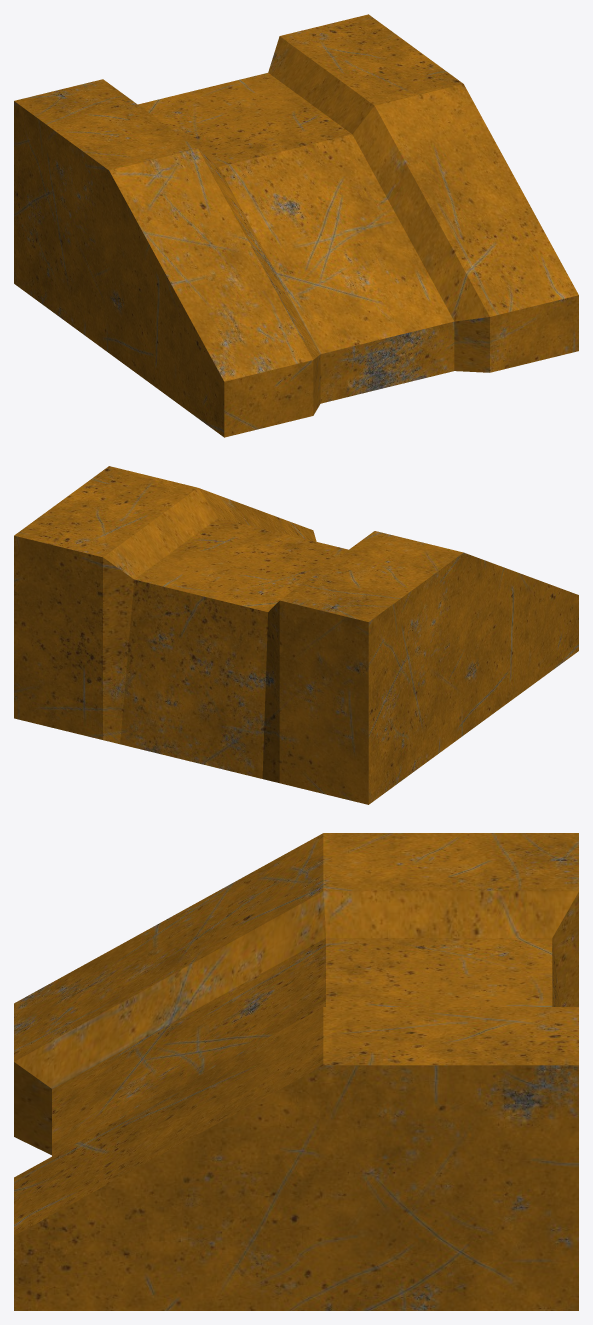
File: MechTreads.fbx
The picture shows the model from 3 angles, top to bottom: view 1: azimuth 30°, elevation 25°; view 2: azimuth 150°, elevation 25°; view 3: azimuth 270°, elevation 25°; orthographic projection. The views are drawn at different scales.
Parts seen in each view (by area): view 1: Treads; view 2: Treads; view 3: Treads.
Boxes of the visible parts, box(x1,y1,x2,y2) form: Treads: box(14, 14, 578, 437); Treads: box(14, 466, 578, 804); Treads: box(14, 833, 578, 1310).
Bounding box in the file's own units: 2.14 × 1.07 × 2.2.
